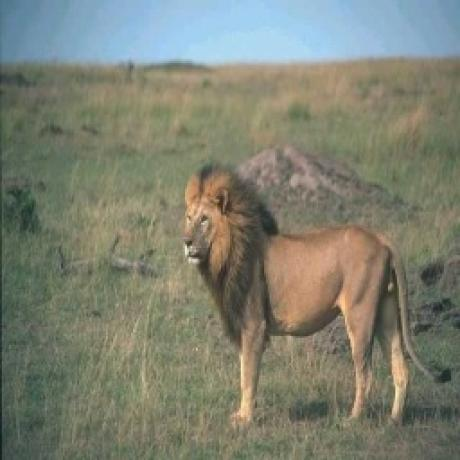Lion: (182, 158, 455, 430)
